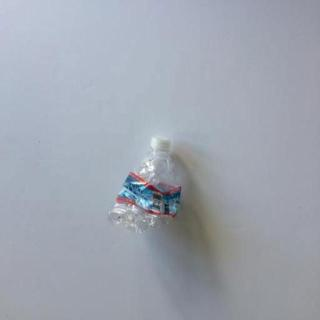Plastic-bottle: (109, 135, 183, 233)
